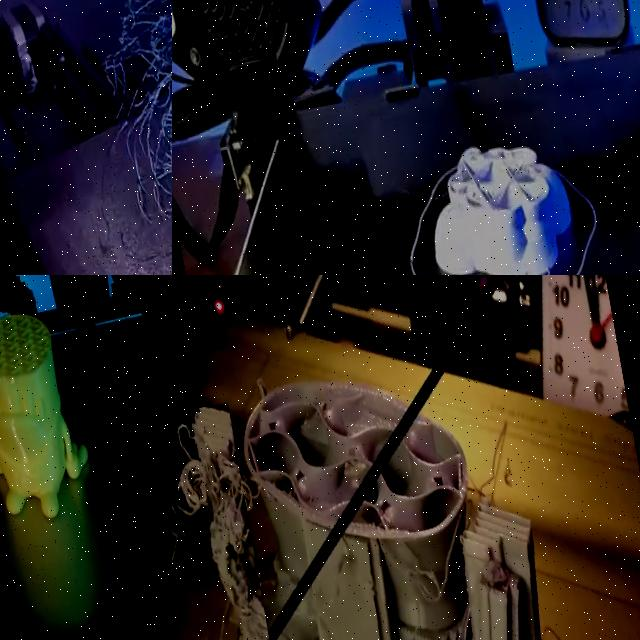spaghetti: (340, 485, 499, 640), (172, 402, 273, 640), (539, 625, 579, 640)
